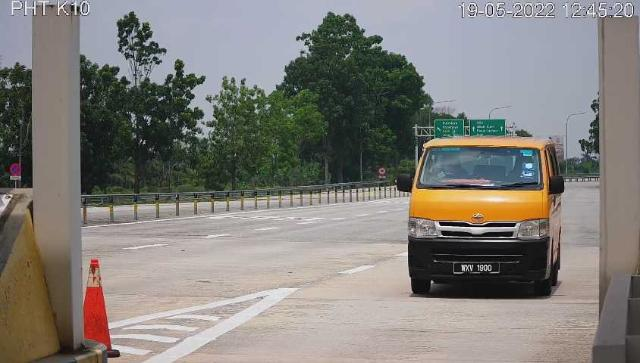License_Plate: (453, 262, 501, 278)
van: (409, 138, 563, 299)
